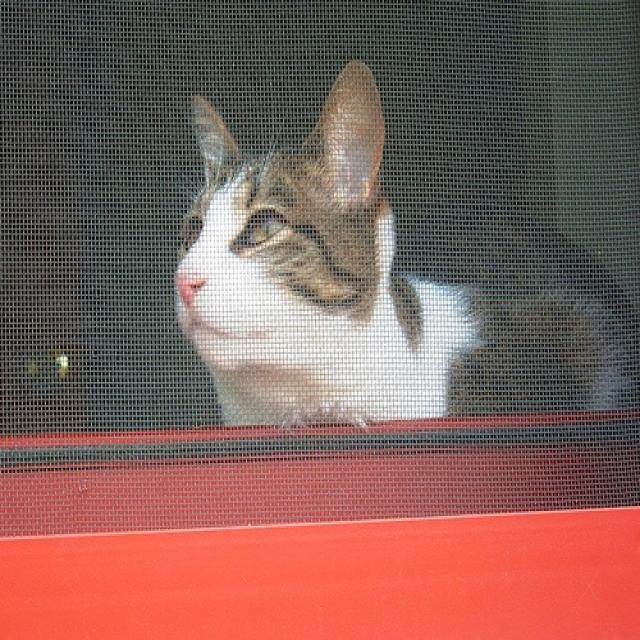cat: (174, 58, 639, 430)
